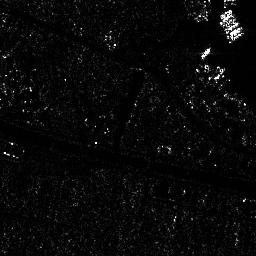ship: (201, 44, 211, 60)
